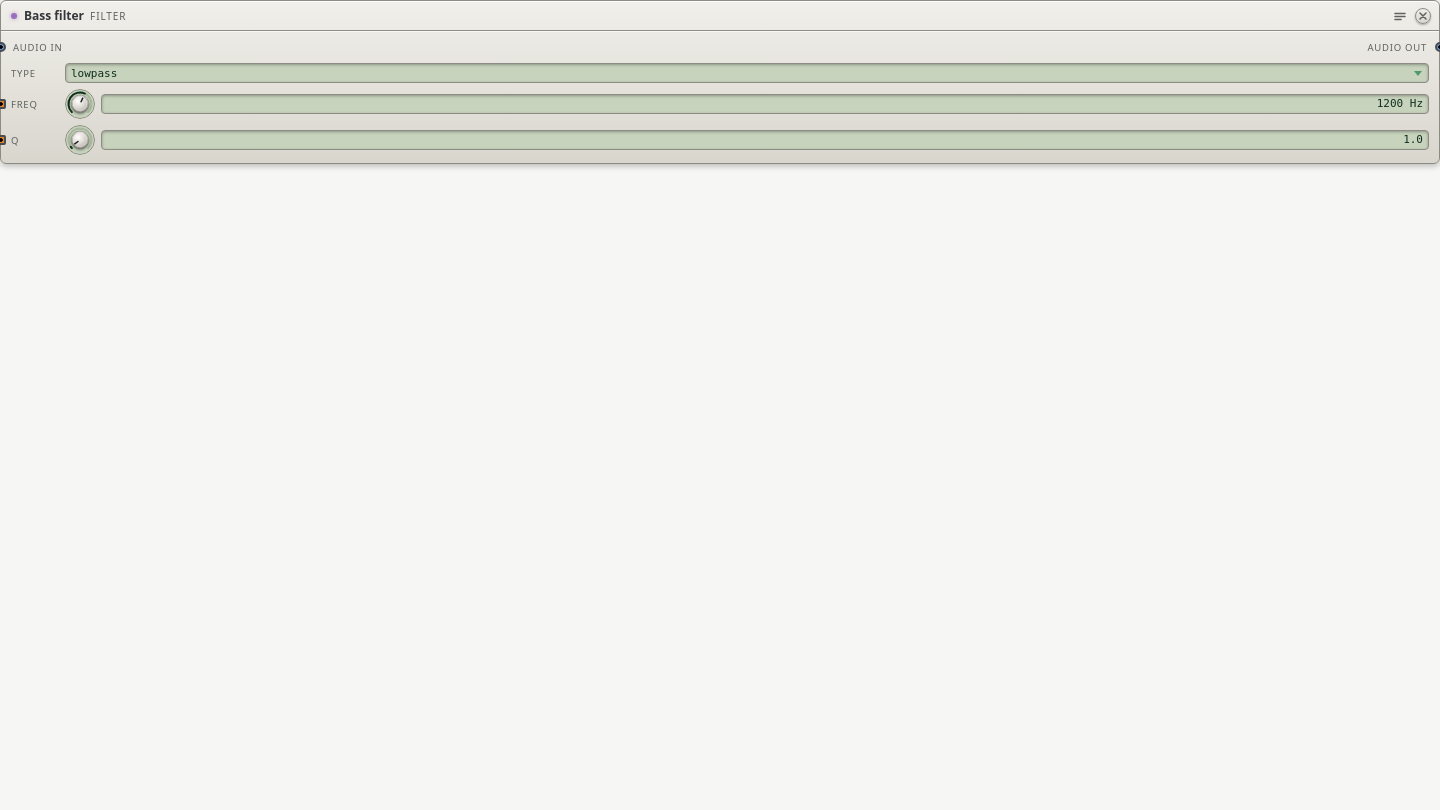
Test: PresetMenu › starts the name of a preset from the name of the node, and cannot save without one
Click the button named "Presets of Bass filter" at (1400, 16), box [1392,8,1408,24]
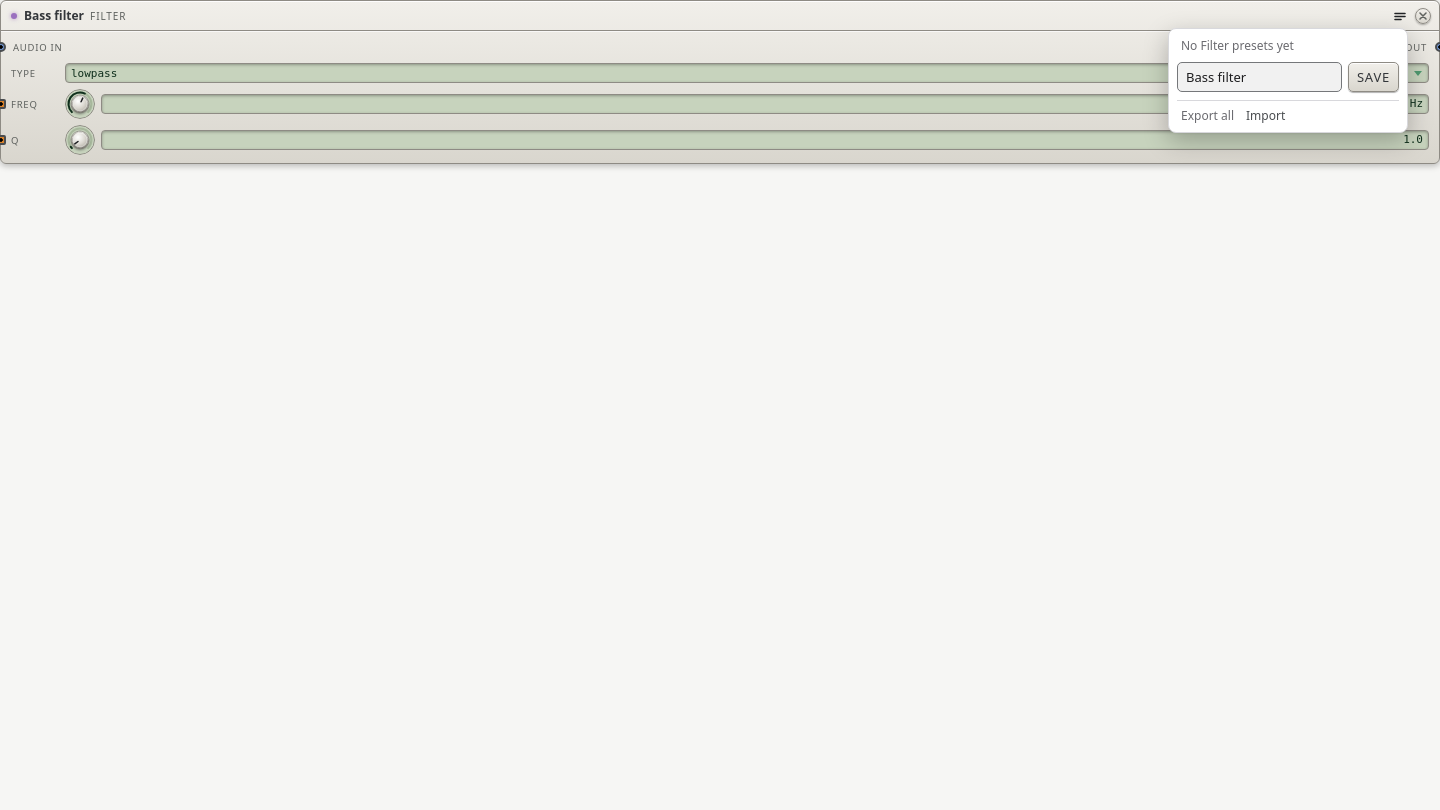
Expected: the field named "Preset name" holds "Bass filter"
Clear the field named "Preset name" at (1259, 76), box [1177,62,1342,92]
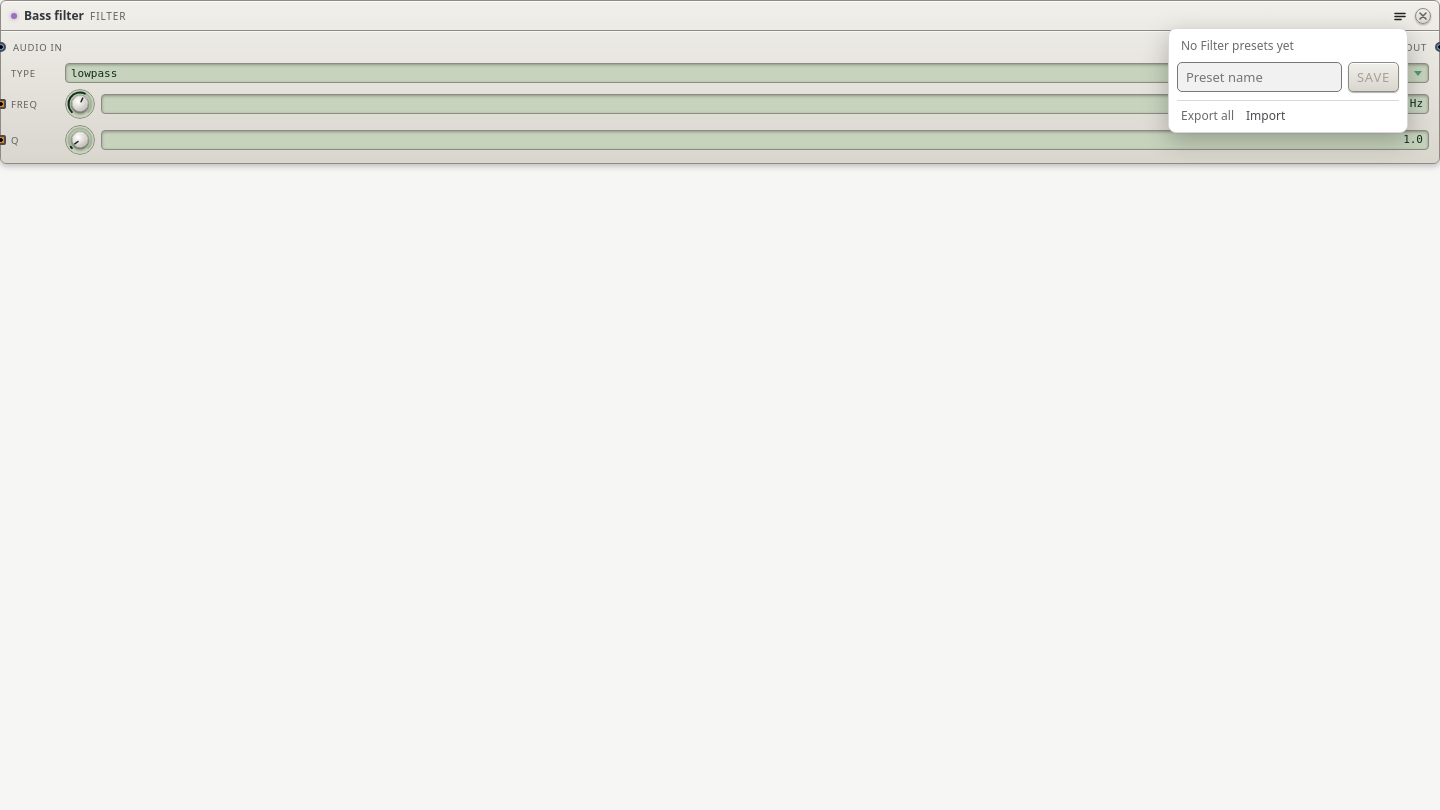
Expected: the button with aria-label "Save preset" is disabled, [1348,62,1399,92]
